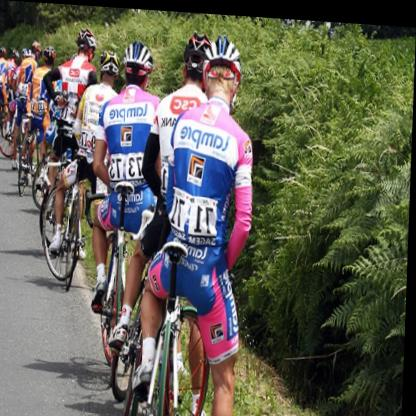With Helmet: (199, 30, 251, 106), (119, 31, 156, 99), (74, 19, 101, 61), (40, 38, 62, 67)
